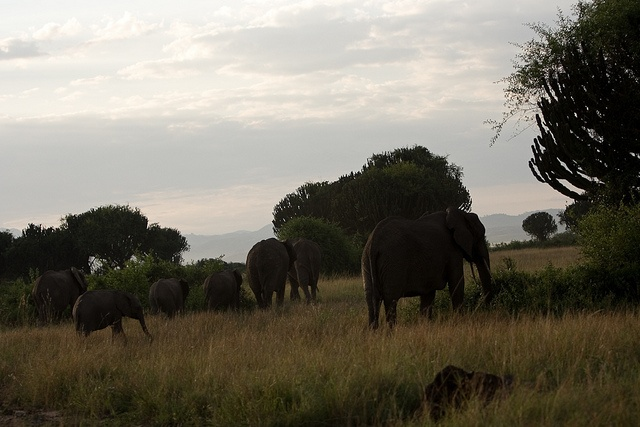elephant: (426, 269, 556, 390), (115, 317, 201, 374), (60, 295, 122, 358), (273, 275, 327, 347), (308, 271, 340, 340), (171, 296, 215, 341), (223, 291, 261, 337)
